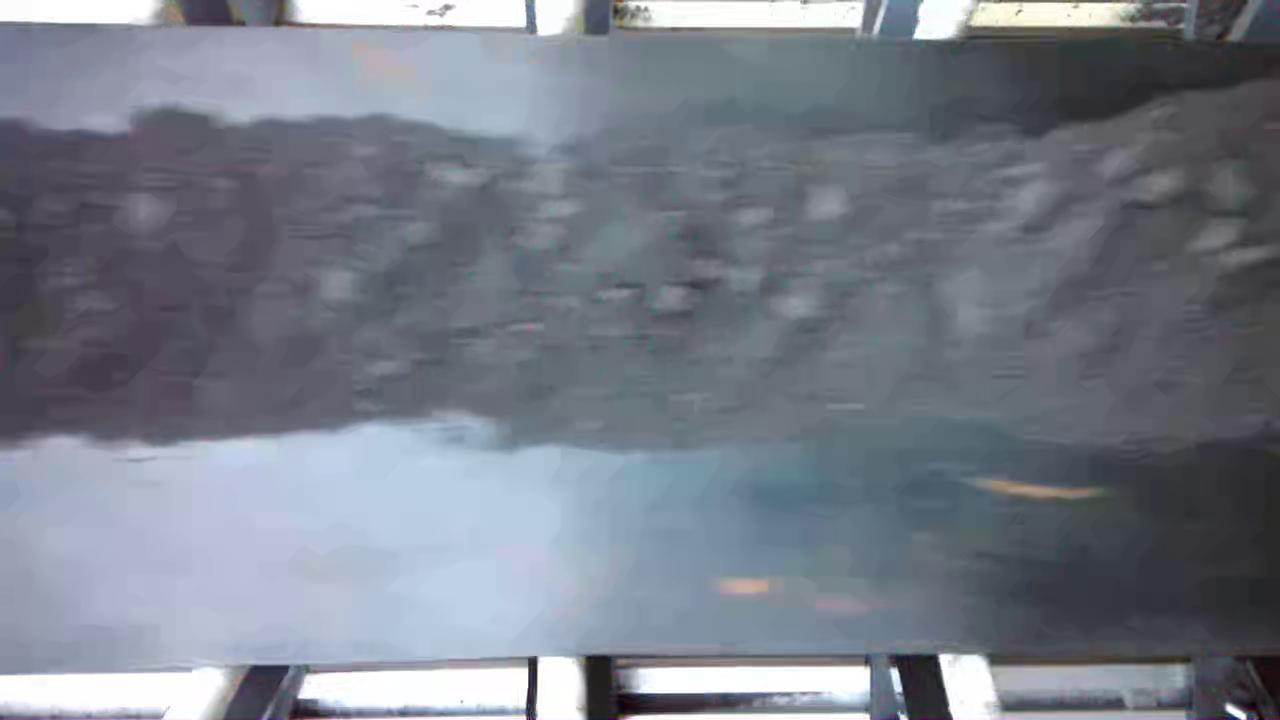conveyor: (13, 46, 1280, 646)
